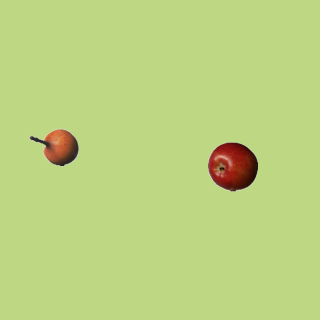Apple Braeburn: (207, 141, 257, 191)
Granadilla: (28, 122, 78, 172)
